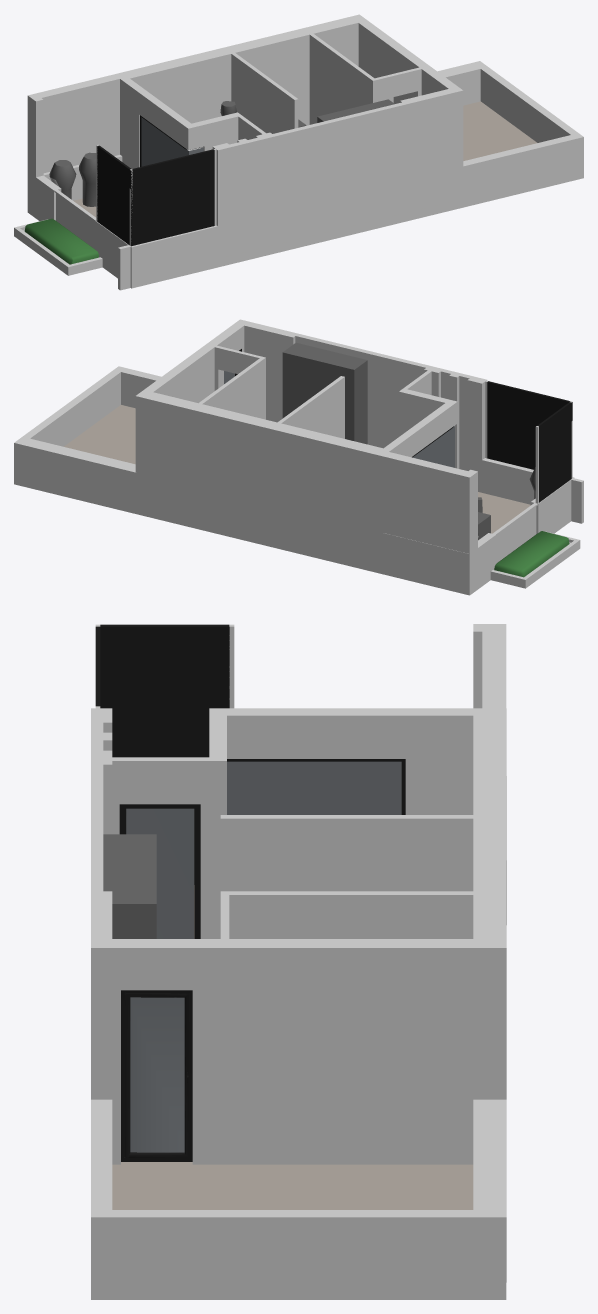
Rendered from 3d_building_floor4.gltf.
The picture shows the model from 3 angles, top to bottom: view 1: azimuth 30°, elevation 25°; view 2: azimuth 150°, elevation 25°; view 3: azimuth 270°, elevation 25°; orthographic projection. The views are drawn at different scales.
Visible parts, largest first — view 1: building_04; view 2: building_04; view 3: building_04.
Part boxes in pixels (x1,y1,x2,y2): building_04: (14, 14, 583, 290); building_04: (14, 319, 583, 595); building_04: (91, 624, 506, 1299).
Bounding box in the file's own units: 9.87 × 2.27 × 3.65.
